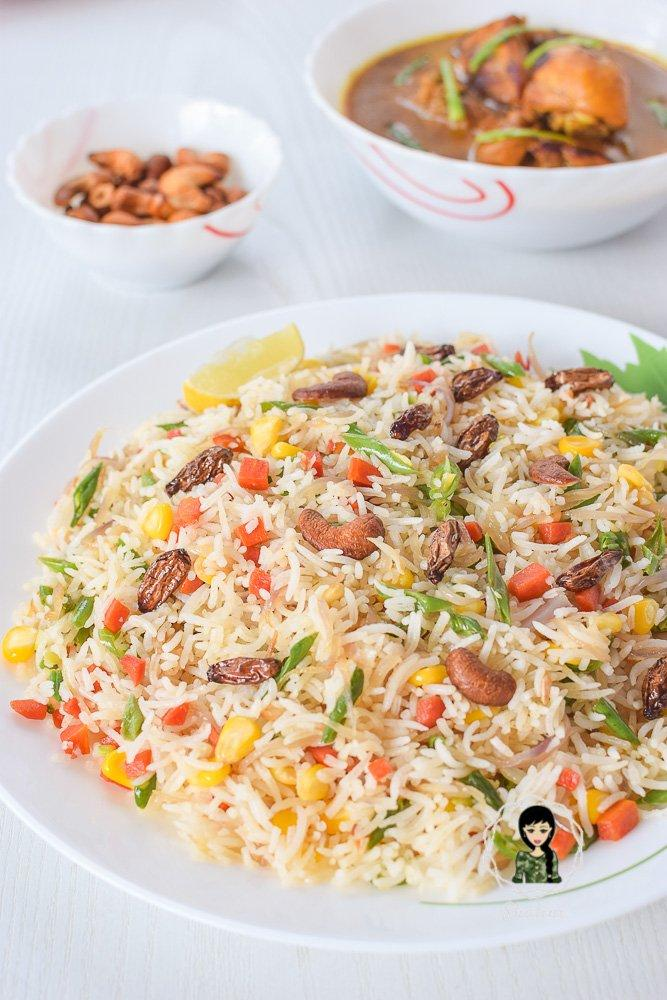veg-pulao: (51, 356, 667, 885)
